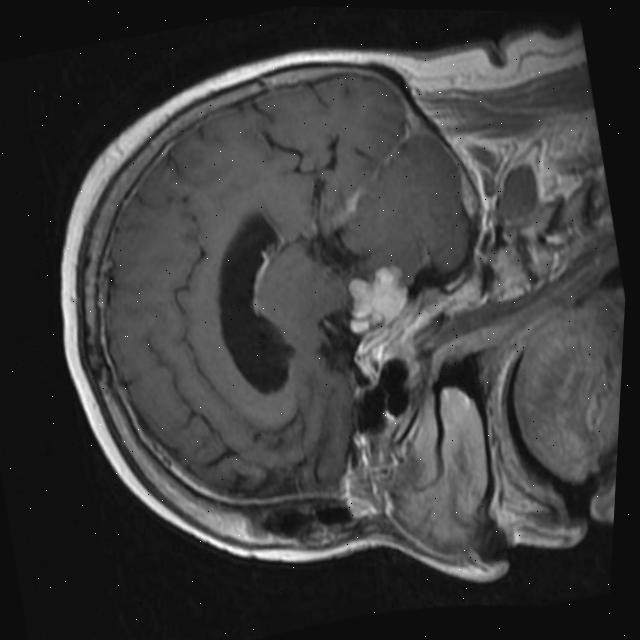Meningioma: (336, 259, 418, 339)
